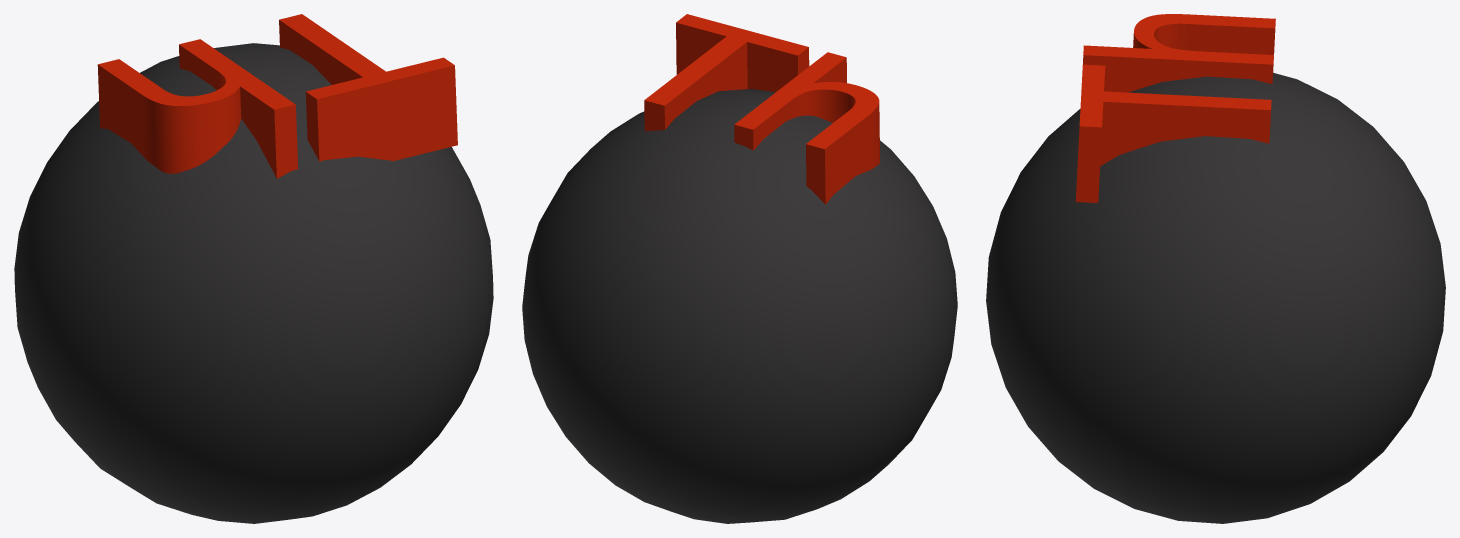
3 views of the same model, side by side, from view 1: azimuth 30°, elevation 25°; view 2: azimuth 150°, elevation 25°; view 3: azimuth 270°, elevation 25° (orthographic). The views are drawn at different scales.
Visible parts, largest first — view 1: Th; view 2: Th; view 3: Th.
Part boxes in pixels (left/top/right/bottom): Th: left=14, top=14, right=493, bottom=523; Th: left=522, top=14, right=957, bottom=523; Th: left=986, top=14, right=1445, bottom=523.
Bounding box in the file's own units: 38.74 × 40.58 × 38.71.
